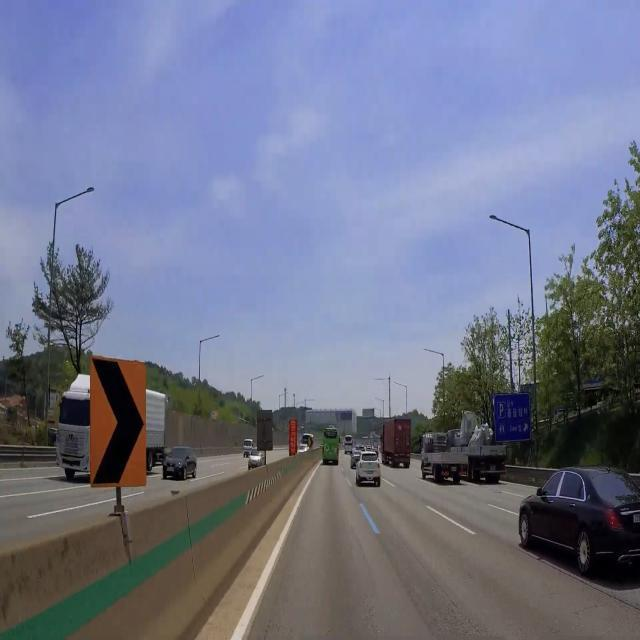car: (483, 461, 500, 474), (630, 512, 640, 528), (446, 466, 460, 477), (366, 469, 376, 479)
